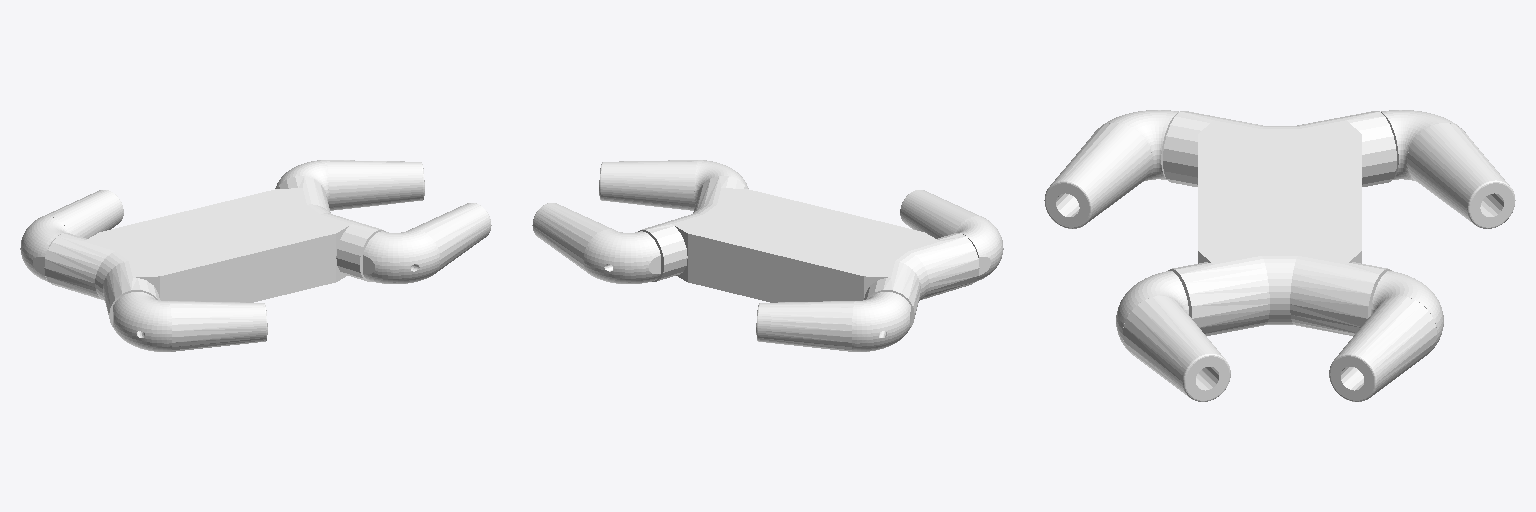
robot.urdf — 24_degree:
<?xml version="1.0" encoding="utf-8"?>
<!-- This URDF was automatically created by SolidWorks to URDF Exporter! Originally created by [author] ([email redacted]) 
     Commit Version: 1.5.1-0-g916b5db  Build Version: 1.5.7152.31018
     For more information, please see http://wiki.ros.org/sw_urdf_exporter -->
<robot
  name="24_degree">
  <link
    name="base_link">
    <inertial>
      <origin
        xyz="2.7756E-17 7.2779E-08 0"
        rpy="0 0 0" />
      <mass
        value="2.942" />
      <inertia
        ixx="0.0101924"
        ixy="-4.2352E-19"
        ixz="-9.6618E-09"
        iyy="0.0467156"
        iyz="-3.0322E-19"
        izz="0.0542618" />
    </inertial>
    <visual>
      <origin
        xyz="0 0 0"
        rpy="0 0 0" />
      <geometry>
        <mesh
          filename="package://24_degree/meshes/base_link.STL" />
      </geometry>
      <material
        name="">
        <color
          rgba="1 1 1 1" />
      </material>
    </visual>
    <collision>
      <origin
        xyz="0 0 0"
        rpy="0 0 0" />
      <geometry>
        <mesh
          filename="package://24_degree/meshes/base_link.STL" />
      </geometry>
    </collision>
  </link>
  <link
    name="left_front_link">
    <inertial>
      <origin
        xyz="-9.345E-08 0.056833 -0.03601"
        rpy="0 0 0" />
      <mass
        value="0.095" />
      <inertia
        ixx="0.0002672"
        ixy="5.6602E-10"
        ixz="3.0238E-10"
        iyy="0.0000540"
        iyz="2.33E-05"
        izz="0.0002642" />
    </inertial>
    <visual>
      <origin
        xyz="0 0 0"
        rpy="0 0 0" />
      <geometry>
        <mesh
          filename="package://24_degree/meshes/left_front_link.STL" />
      </geometry>
      <material
        name="">
        <color
          rgba="1 1 1 1" />
      </material>
    </visual>
    <collision>
      <origin
        xyz="0 0 0"
        rpy="0 0 0" />
      <geometry>
        <mesh
          filename="package://24_degree/meshes/left_front_link.STL" />
      </geometry>
    </collision>
  </link>
  <joint
    name="left_front_leg"
    type="continuous">
    <origin
      xyz="0.17189 0.094095 0"
      rpy="1.9897 1.5708 0" />
    <parent
      link="base_link" />
    <child
      link="left_front_link" />
    <axis
      xyz="0 0 -1" />
    <limit
      effort="5"
      velocity="487" />
  </joint>
  <link
    name="right_front_link">
    <inertial>
      <origin
        xyz="9.345E-08 0.056833 0.03601"
        rpy="0 0 0" />
      <mass
        value="0.095" />
      <inertia
        ixx="0.0002672"
        ixy="-5.6602E-10"
        ixz="3.0238E-10"
        iyy="0.0000540"
        iyz="-2.33E-05"
        izz="0.0002642" />
    </inertial>
    <visual>
      <origin
        xyz="0 0 0"
        rpy="0 0 0" />
      <geometry>
        <mesh
          filename="package://24_degree/meshes/right_front_link.STL" />
      </geometry>
      <material
        name="">
        <color
          rgba="1 1 1 1" />
      </material>
    </visual>
    <collision>
      <origin
        xyz="0 0 0"
        rpy="0 0 0" />
      <geometry>
        <mesh
          filename="package://24_degree/meshes/right_front_link.STL" />
      </geometry>
    </collision>
  </link>
  <joint
    name="right_front_leg"
    type="continuous">
    <origin
      xyz="0.17189 -0.094095 0"
      rpy="1.1519 1.5708 0" />
    <parent
      link="base_link" />
    <child
      link="right_front_link" />
    <axis
      xyz="0 0 1" />
    <limit
      effort="5"
      velocity="487" />
  </joint>
  <link
    name="right_back_link">
    <inertial>
      <origin
        xyz="8.4125E-08 0.056834 0.03601"
        rpy="0 0 0" />
      <mass
        value="0.095" />
      <inertia
        ixx="0.0002672"
        ixy="-5.2061E-10"
        ixz="1.9382E-10"
        iyy="0.0000540"
        iyz="-2.33E-05"
        izz="0.0002642" />
    </inertial>
    <visual>
      <origin
        xyz="0 0 0"
        rpy="0 0 0" />
      <geometry>
        <mesh
          filename="package://24_degree/meshes/right_back_link.STL" />
      </geometry>
      <material
        name="">
        <color
          rgba="1 1 1 1" />
      </material>
    </visual>
    <collision>
      <origin
        xyz="0 0 0"
        rpy="0 0 0" />
      <geometry>
        <mesh
          filename="package://24_degree/meshes/right_back_link.STL" />
      </geometry>
    </collision>
  </link>
  <joint
    name="right_back_leg"
    type="continuous">
    <origin
      xyz="-0.17189 -0.094095 0"
      rpy="1.9897 1.5708 0" />
    <parent
      link="base_link" />
    <child
      link="right_back_link" />
    <axis
      xyz="0 0 1" />
    <limit
      effort="5"
      velocity="487" />
  </joint>
  <link
    name="left_back_link">
    <inertial>
      <origin
        xyz="-8.4125E-08 0.056834 -0.03601"
        rpy="0 0 0" />
      <mass
        value="0.095" />
      <inertia
        ixx="0.0002672"
        ixy="5.2061E-10"
        ixz="1.9382E-10"
        iyy="0.0000540"
        iyz="2.33E-05"
        izz="0.0002642" />
    </inertial>
    <visual>
      <origin
        xyz="0 0 0"
        rpy="0 0 0" />
      <geometry>
        <mesh
          filename="package://24_degree/meshes/left_back_link.STL" />
      </geometry>
      <material
        name="">
        <color
          rgba="1 1 1 1" />
      </material>
    </visual>
    <collision>
      <origin
        xyz="0 0 0"
        rpy="0 0 0" />
      <geometry>
        <mesh
          filename="package://24_degree/meshes/left_back_link.STL" />
      </geometry>
    </collision>
  </link>
  <joint
    name="left_back_leg"
    type="continuous">
    <origin
      xyz="-0.17189 0.094095 0"
      rpy="1.1519 1.5708 0" />
    <parent
      link="base_link" />
    <child
      link="left_back_link" />
    <axis
      xyz="0 0 -1" />
    <limit
      effort="5"
      velocity="487" />
  </joint>
</robot>

--- Render facts (derived) ---
Views: 3 orthographic renders of the robot side by side, from view 1: azimuth 30°, elevation 25°; view 2: azimuth 150°, elevation 25°; view 3: azimuth 270°, elevation 25°.
Robot: 24_degree — 5 links, 4 joints (4 continuous); root link base_link; default pose: all joints at 0.
Visible links, largest first — view 1: base_link, right_back_link, right_front_link, left_front_link, left_back_link; view 2: base_link, left_back_link, left_front_link, right_front_link, right_back_link; view 3: base_link, left_back_link, right_back_link, left_front_link, right_front_link.
Link boxes in pixels (left/top/right/bottom): base_link: left=44, top=176, right=385, bottom=329; right_back_link: left=113, top=292, right=267, bottom=351; right_front_link: left=363, top=203, right=491, bottom=283; left_front_link: left=275, top=160, right=424, bottom=210; left_back_link: left=20, top=190, right=123, bottom=281; base_link: left=638, top=176, right=979, bottom=329; left_back_link: left=756, top=292, right=910, bottom=351; left_front_link: left=532, top=203, right=660, bottom=283; right_front_link: left=599, top=160, right=748, bottom=210; right_back_link: left=900, top=190, right=1003, bottom=281; base_link: left=1163, top=111, right=1396, bottom=335; left_back_link: left=1381, top=110, right=1515, bottom=228; right_back_link: left=1044, top=110, right=1178, bottom=228; left_front_link: left=1329, top=271, right=1443, bottom=401; right_front_link: left=1116, top=271, right=1230, bottom=401.
Size in the robot's own frame: 0.5498 by 0.4329 by 0.0672 metres.
5 mesh visuals loaded from 5 distinct referenced files (5 binary STL).